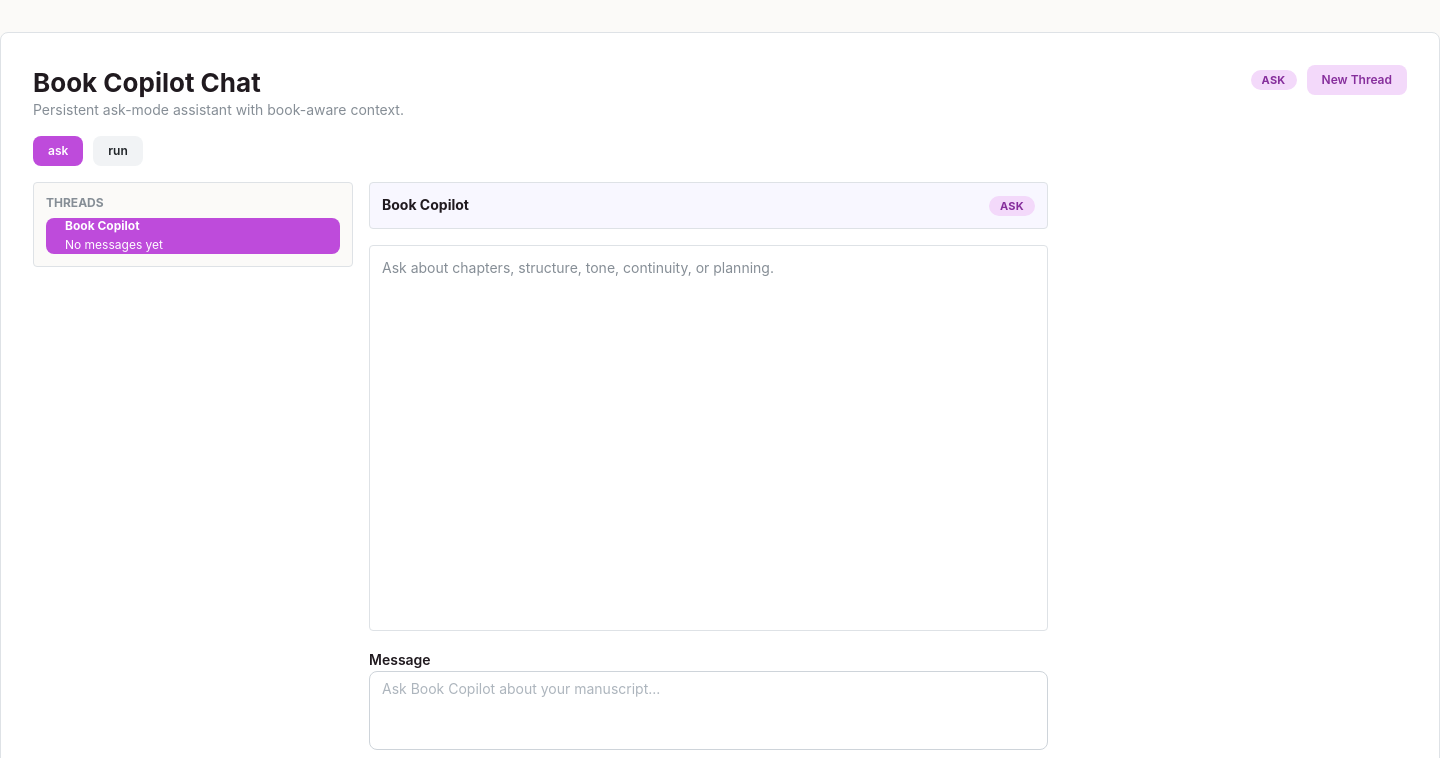
Scenario: BookChatRail › switches mode and shows run-mode workflow buttons
Expected: the heading "Book Copilot Chat" is shown, [33, 67, 261, 98]
Click the button "run" at {"x": 118, "y": 151}, box [93, 136, 143, 166]
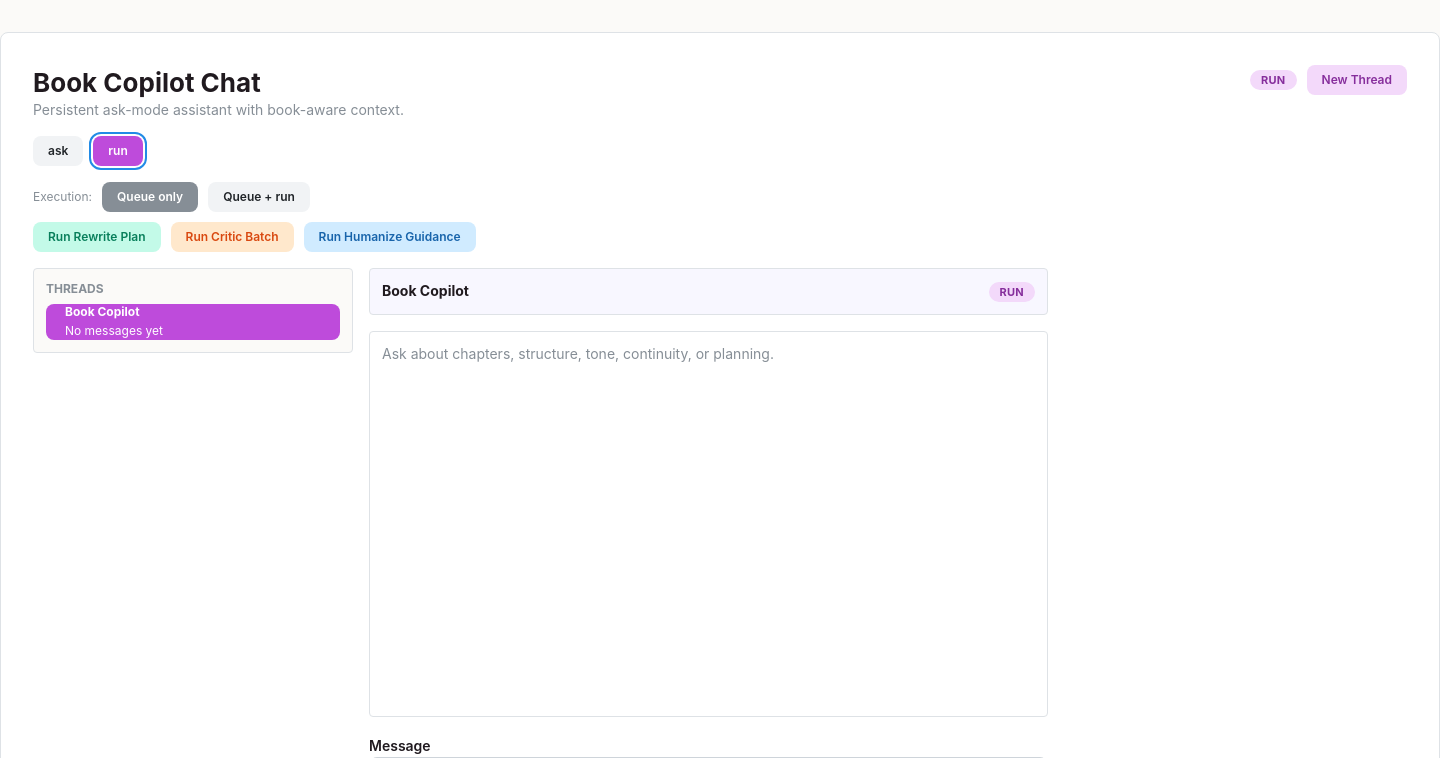
Now the button "Run Rewrite Plan" is shown, box [33, 222, 160, 252]
Now the button "Run Critic Batch" is shown, box [170, 222, 294, 252]
Now the button "Run Humanize Guidance" is shown, box [304, 222, 476, 252]
